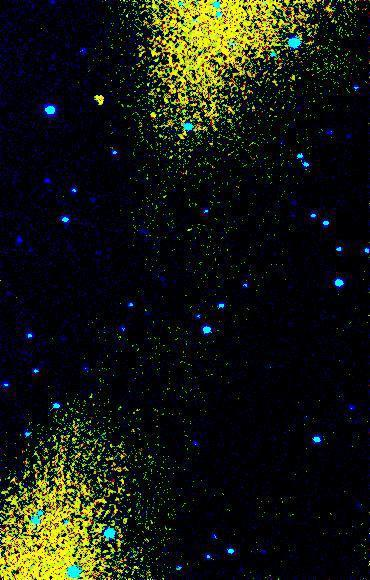star: (136, 99, 166, 129)
